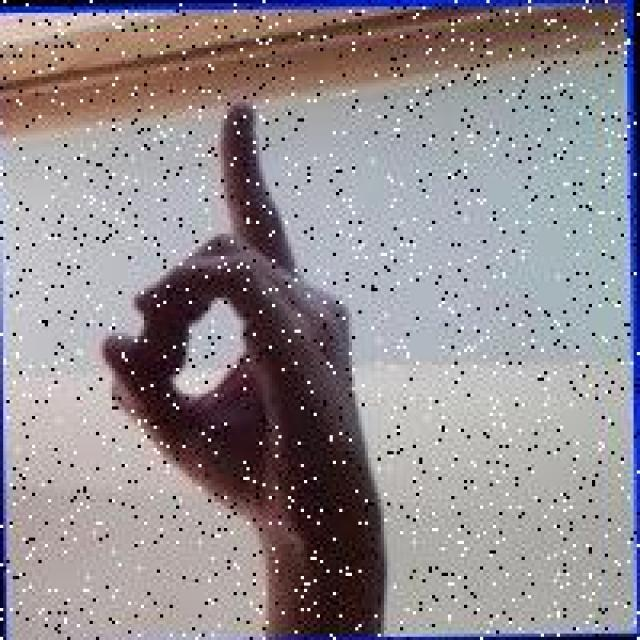D: (96, 93, 387, 566)
